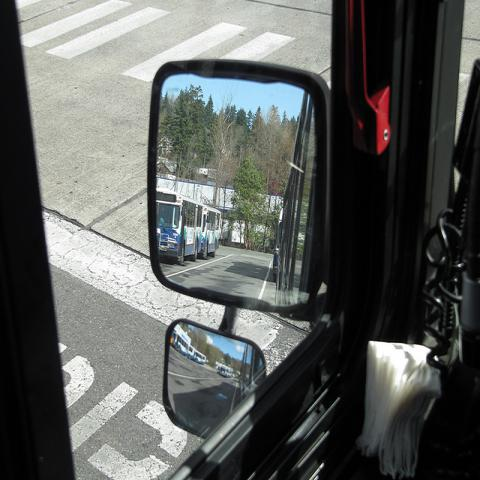bus: (158, 189, 204, 263)
